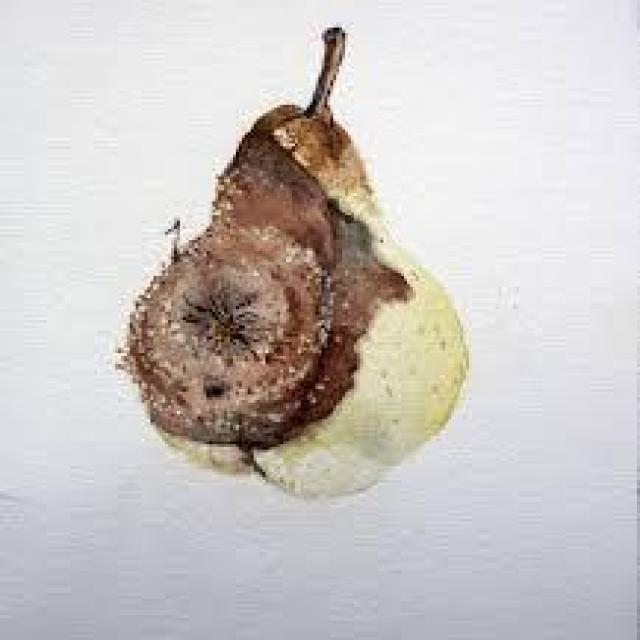organic: (115, 28, 472, 499)
